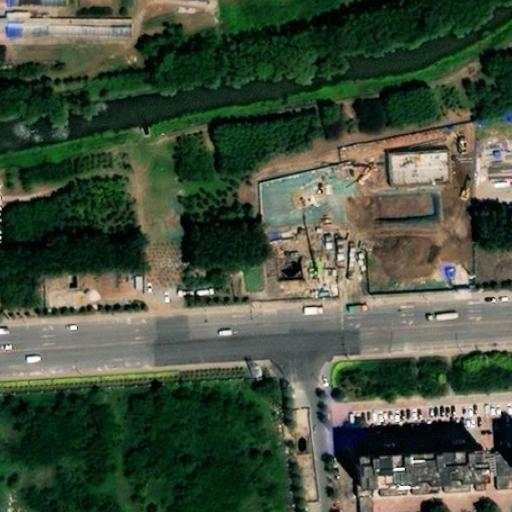building: (362, 470, 487, 511), (38, 264, 143, 305), (10, 34, 129, 56), (385, 144, 449, 183), (485, 460, 512, 495), (157, 0, 209, 17), (7, 5, 65, 19)
